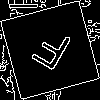F: (25, 25, 75, 81)
